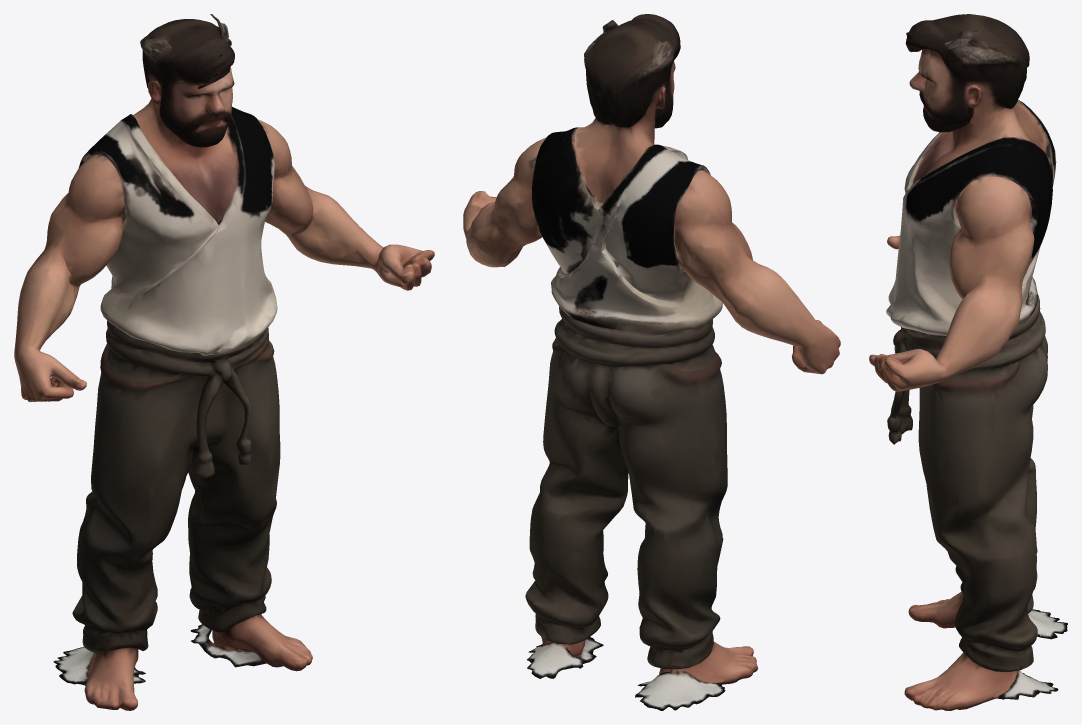
The model's file is raw.glb.
3 renders of one model, left to right at view 1: azimuth 30°, elevation 25°; view 2: azimuth 150°, elevation 25°; view 3: azimuth 270°, elevation 25°, orthographic. The views are drawn at different scales.
Visible parts, largest first — view 1: runebreaker/bare_trellis_concept_31_s7; view 2: runebreaker/bare_trellis_concept_31_s7; view 3: runebreaker/bare_trellis_concept_31_s7.
Part boxes in pixels (box(x1,y1,x2,y2)): runebreaker/bare_trellis_concept_31_s7: box(14, 14, 434, 710); runebreaker/bare_trellis_concept_31_s7: box(463, 14, 840, 710); runebreaker/bare_trellis_concept_31_s7: box(869, 14, 1067, 710).
Size of the model in its own units: 0.6274 by 0.9994 by 0.2779.
Materials: 1 (1 with a texture image).
